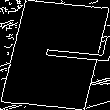L_W: (10, 36, 100, 74)
